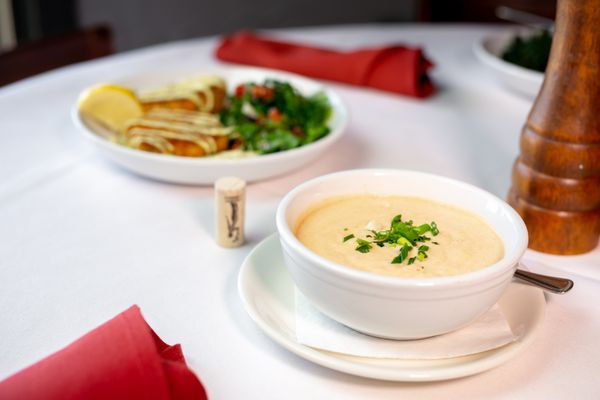pizza: (504, 0, 600, 257)
sushi: (274, 166, 529, 341), (71, 69, 350, 186), (473, 26, 552, 100)
